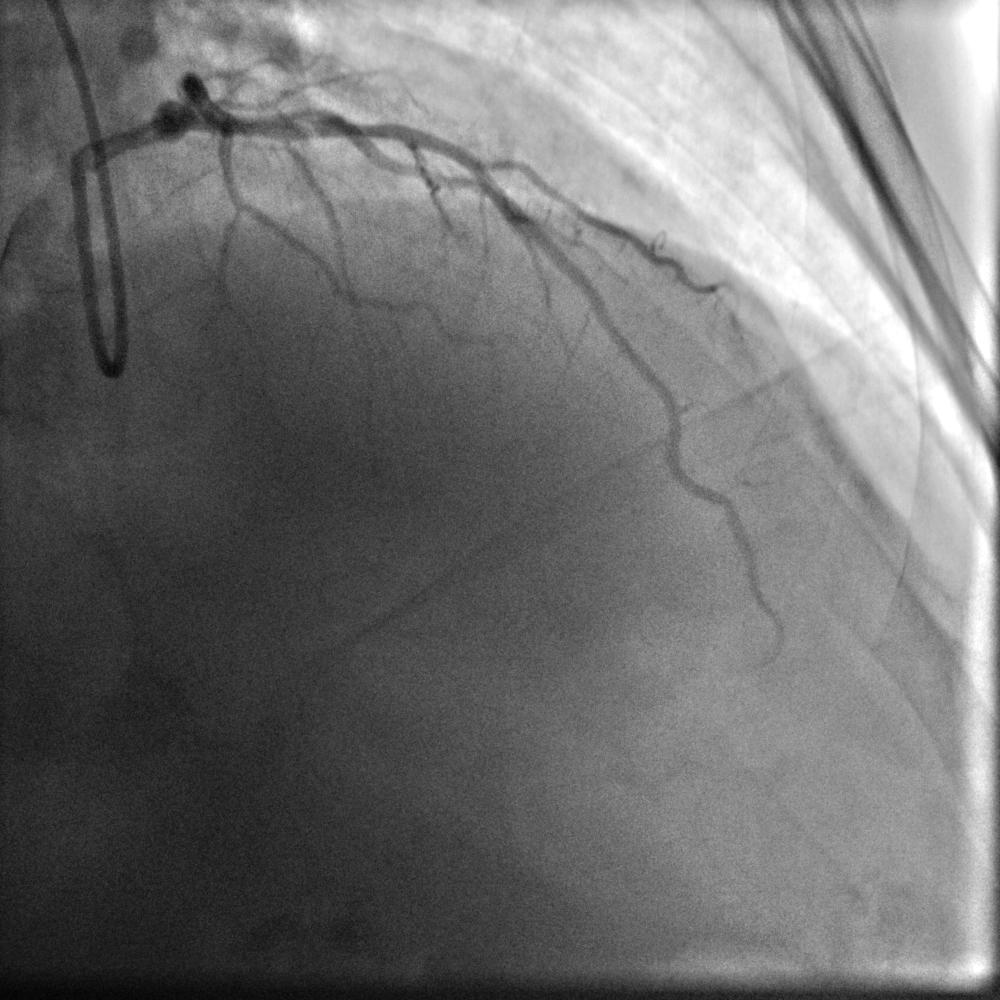Stenosis: (299, 120, 327, 144)
